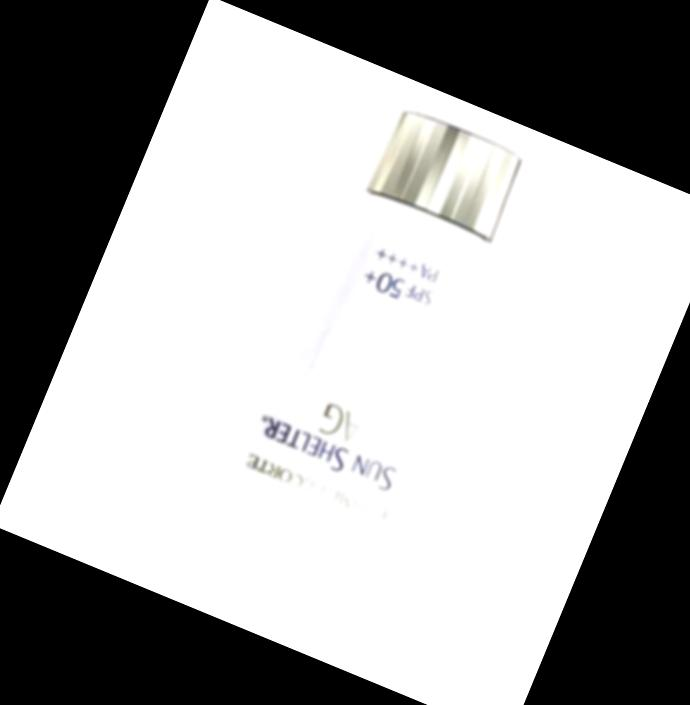cosmetic: (184, 93, 552, 629)
